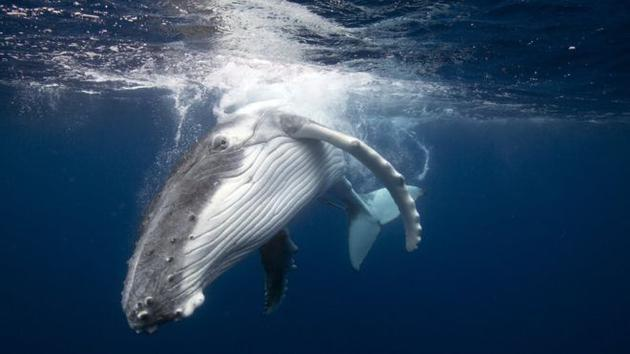fish: (119, 71, 435, 330)
